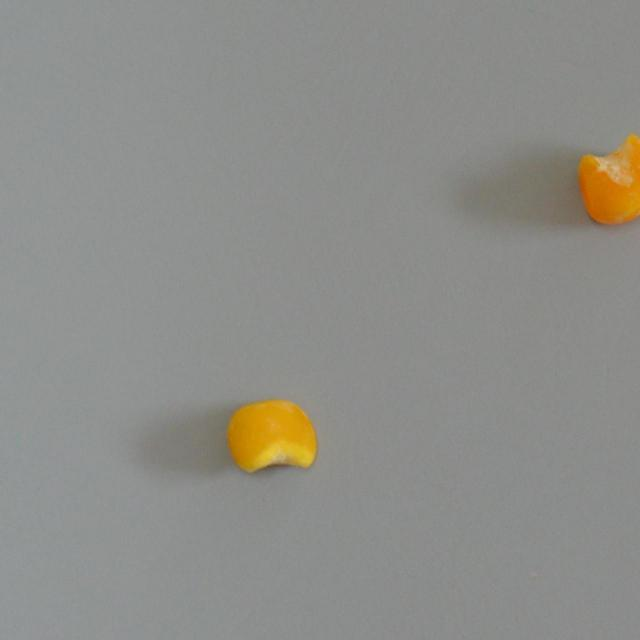no_canjicado: (222, 392, 325, 478), (574, 126, 640, 229)
